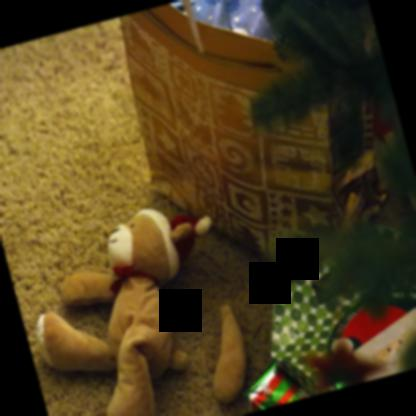handbag: (117, 0, 381, 275)
